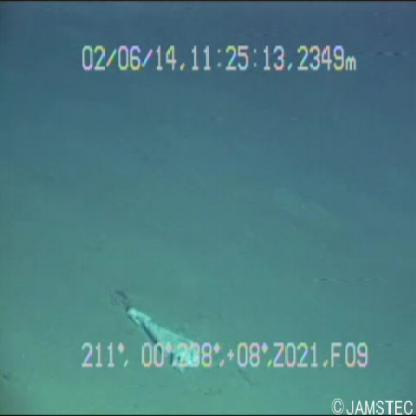Rác: (116, 290, 211, 381)
